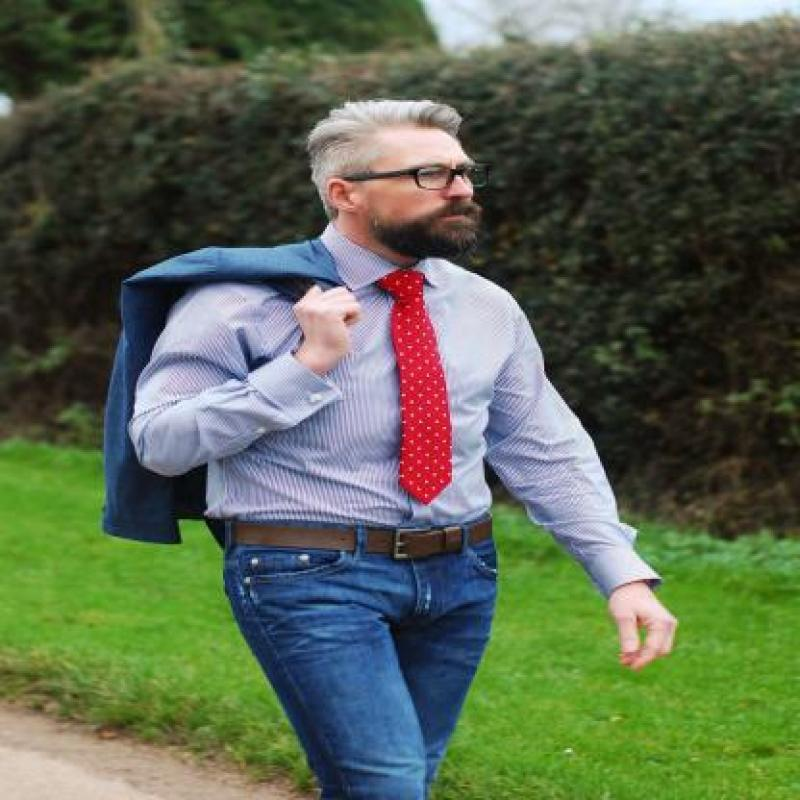long sleeve shirt: (129, 221, 664, 605)
trousers: (224, 517, 502, 800)
